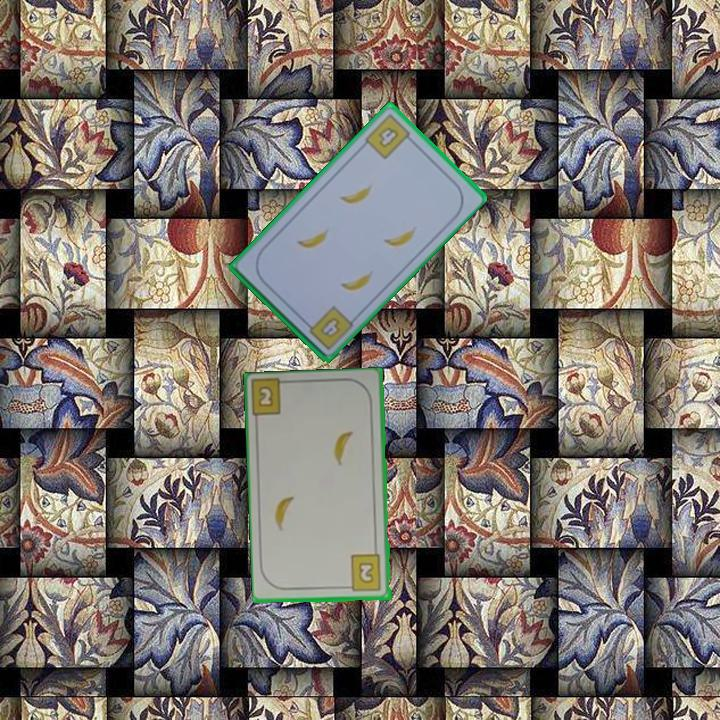2b: (342, 552, 384, 594), (255, 382, 276, 410)
4b: (361, 110, 417, 162), (301, 302, 356, 353)
